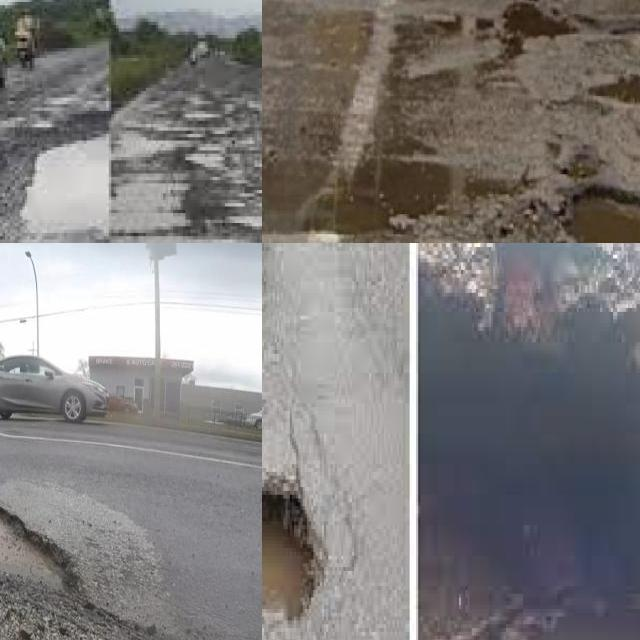Pothole: (25, 137, 109, 226), (262, 499, 324, 617), (0, 509, 79, 599), (564, 185, 640, 243), (119, 127, 225, 167), (380, 159, 452, 216), (490, 189, 556, 243), (503, 2, 576, 37), (588, 74, 640, 102)
